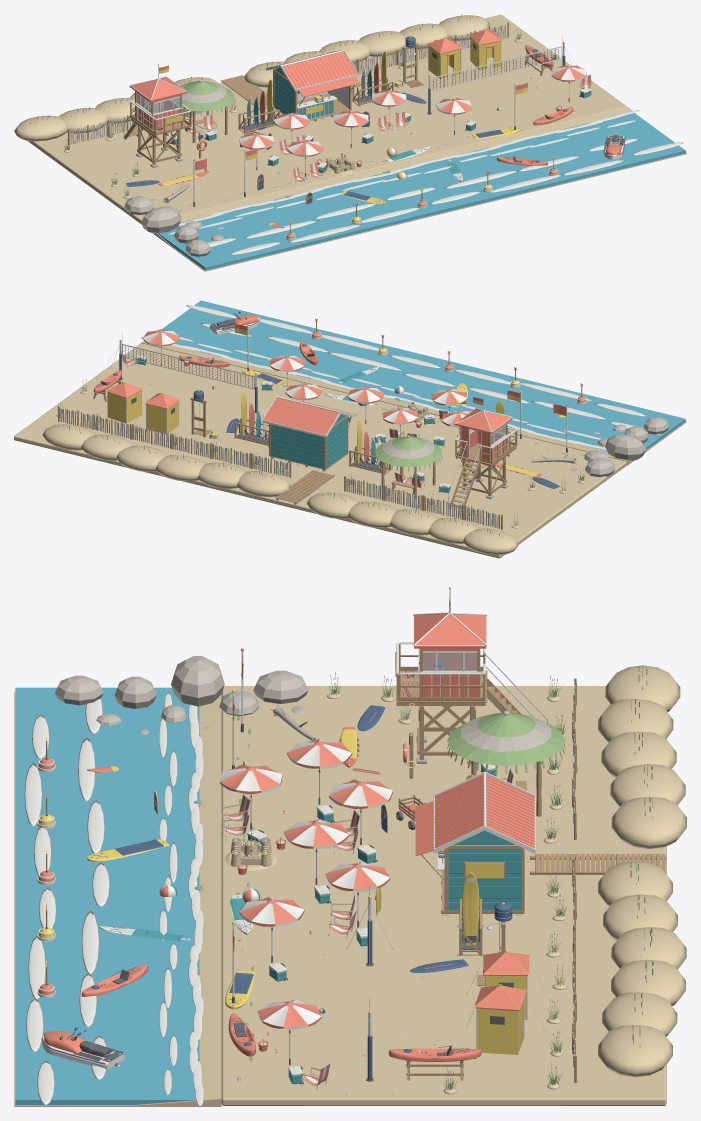
File: beach-surf-and-paddle-kit-surf-beach-cov-c569902d-starter-scene.glb
3 views of the same model, one above another, from view 1: azimuth 30°, elevation 25°; view 2: azimuth 150°, elevation 25°; view 3: azimuth 270°, elevation 25° (orthographic). The views are drawn at different scales.
Visible parts, largest first — view 1: 000-surf-cove-base/surf-cove-base-sand, 000-surf-cove-base/surf-cove-base-water, 000-surf-cove-base/surf-cove-base-foam, 000-surf-cove-base/surf-cove-base-drift, 012-surf-hire-hut/surf-hire-hut-coral, 001-lifeguard-tower/lifeguard-tower-timber, 001-lifeguard-tower/lifeguard-tower-coral, 012-surf-hire-hut/surf-hire-hut-foam, 012-surf-hire-hut/surf-hire-hut-teal, 032-palm-shade-shelter/palm-shade-shelter-grass, 027-pop-up-changing-tent/pop-up-changing-tent-sun, 001-lifeguard-tower/lifeguard-tower-foam (+10 smaller); view 2: 000-surf-cove-base/surf-cove-base-sand, 000-surf-cove-base/surf-cove-base-water, 000-surf-cove-base/surf-cove-base-foam, 012-surf-hire-hut/surf-hire-hut-teal, 000-surf-cove-base/surf-cove-base-drift, 001-lifeguard-tower/lifeguard-tower-timber, 012-surf-hire-hut/surf-hire-hut-coral, 001-lifeguard-tower/lifeguard-tower-coral, 032-palm-shade-shelter/palm-shade-shelter-grass, 027-pop-up-changing-tent/pop-up-changing-tent-sun, 028-pop-up-changing-tent/pop-up-changing-tent-sun, 000-surf-cove-base/surf-cove-base-timber (+15 smaller); view 3: 000-surf-cove-base/surf-cove-base-sand, 000-surf-cove-base/surf-cove-base-water, 000-surf-cove-base/surf-cove-base-foam, 000-surf-cove-base/surf-cove-base-drift, 012-surf-hire-hut/surf-hire-hut-coral, 001-lifeguard-tower/lifeguard-tower-coral, 001-lifeguard-tower/lifeguard-tower-timber, 012-surf-hire-hut/surf-hire-hut-teal, 032-palm-shade-shelter/palm-shade-shelter-grass, 028-pop-up-changing-tent/pop-up-changing-tent-sun, 000-surf-cove-base/surf-cove-base-timber, 032-palm-shade-shelter/palm-shade-shelter-drift (+24 smaller).
Boxes of the visible parts, x1=… form: 000-surf-cove-base/surf-cove-base-sand: x1=14, y1=14, x2=686, y2=271; 000-surf-cove-base/surf-cove-base-water: x1=158, y1=113, x2=685, y2=270; 000-surf-cove-base/surf-cove-base-foam: x1=168, y1=59, x2=682, y2=254; 000-surf-cove-base/surf-cove-base-drift: x1=124, y1=107, x2=603, y2=256; 012-surf-hire-hut/surf-hire-hut-coral: x1=276, y1=51, x2=359, y2=97; 001-lifeguard-tower/lifeguard-tower-timber: x1=124, y1=91, x2=191, y2=164; 001-lifeguard-tower/lifeguard-tower-coral: x1=129, y1=65, x2=187, y2=129; 012-surf-hire-hut/surf-hire-hut-foam: x1=266, y1=49, x2=358, y2=118; 012-surf-hire-hut/surf-hire-hut-teal: x1=274, y1=68, x2=333, y2=118; 032-palm-shade-shelter/palm-shade-shelter-grass: x1=174, y1=81, x2=234, y2=115; 027-pop-up-changing-tent/pop-up-changing-tent-sun: x1=427, y1=37, x2=462, y2=78; 001-lifeguard-tower/lifeguard-tower-foam: x1=130, y1=76, x2=191, y2=127; 000-surf-cove-base/surf-cove-base-sand: x1=14, y1=341, x2=686, y2=558; 000-surf-cove-base/surf-cove-base-water: x1=161, y1=300, x2=685, y2=450; 000-surf-cove-base/surf-cove-base-foam: x1=106, y1=305, x2=660, y2=487; 012-surf-hire-hut/surf-hire-hut-teal: x1=271, y1=414, x2=346, y2=468; 000-surf-cove-base/surf-cove-base-drift: x1=155, y1=350, x2=669, y2=477; 001-lifeguard-tower/lifeguard-tower-timber: x1=449, y1=423, x2=517, y2=511; 012-surf-hire-hut/surf-hire-hut-coral: x1=263, y1=398, x2=356, y2=435; 001-lifeguard-tower/lifeguard-tower-coral: x1=454, y1=397, x2=512, y2=460; 032-palm-shade-shelter/palm-shade-shelter-grass: x1=375, y1=436, x2=442, y2=471; 027-pop-up-changing-tent/pop-up-changing-tent-sun: x1=145, y1=392, x2=180, y2=433; 028-pop-up-changing-tent/pop-up-changing-tent-sun: x1=106, y1=381, x2=142, y2=423; 000-surf-cove-base/surf-cove-base-timber: x1=275, y1=470, x2=334, y2=504; 000-surf-cove-base/surf-cove-base-sand: x1=14, y1=665, x2=686, y2=1106; 000-surf-cove-base/surf-cove-base-water: x1=15, y1=687, x2=199, y2=1105; 000-surf-cove-base/surf-cove-base-foam: x1=24, y1=692, x2=500, y2=1106; 000-surf-cove-base/surf-cove-base-drift: x1=55, y1=656, x2=308, y2=1082; 012-surf-hire-hut/surf-hire-hut-coral: x1=415, y1=774, x2=534, y2=855; 001-lifeguard-tower/lifeguard-tower-coral: x1=414, y1=596, x2=486, y2=696; 001-lifeguard-tower/lifeguard-tower-timber: x1=395, y1=643, x2=521, y2=759; 012-surf-hire-hut/surf-hire-hut-teal: x1=448, y1=830, x2=521, y2=910; 032-palm-shade-shelter/palm-shade-shelter-grass: x1=447, y1=712, x2=565, y2=773; 028-pop-up-changing-tent/pop-up-changing-tent-sun: x1=474, y1=984, x2=526, y2=1054; 000-surf-cove-base/surf-cove-base-timber: x1=530, y1=854, x2=666, y2=874; 032-palm-shade-shelter/palm-shade-shelter-drift: x1=447, y1=710, x2=565, y2=773.
Size of the model in its own units: 34.18 by 6.54 by 22.69.
